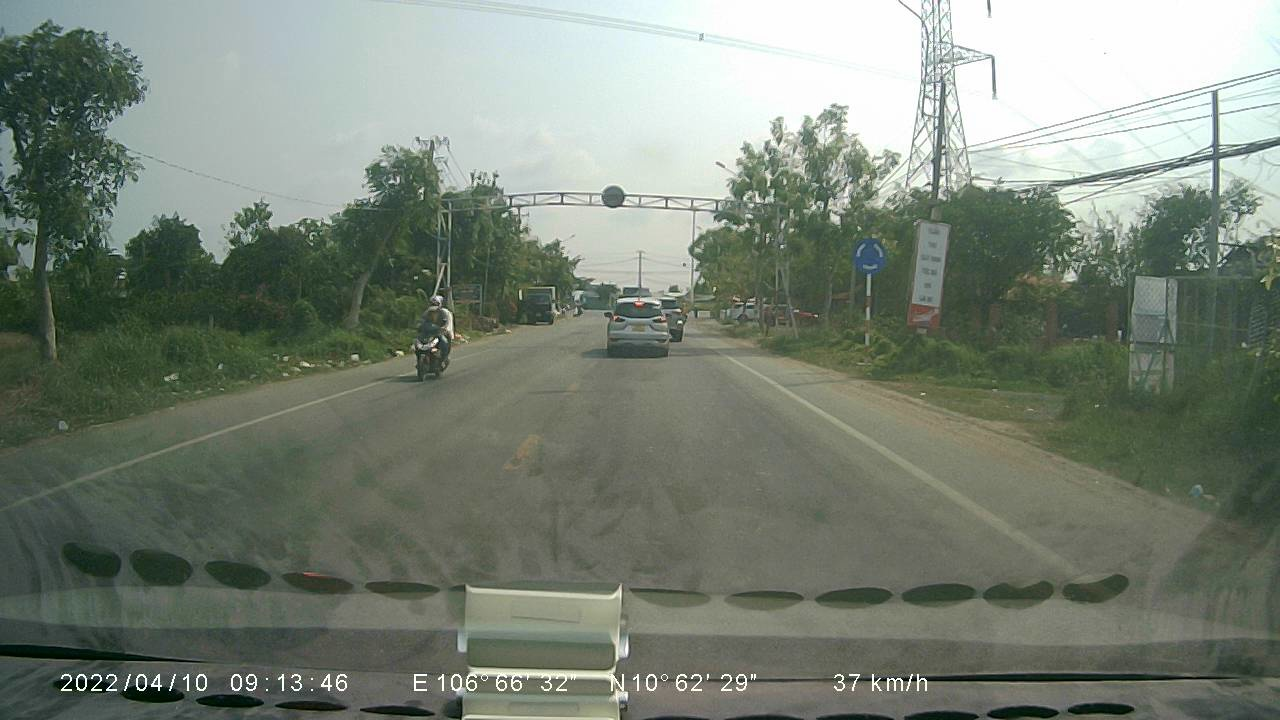Bien khac: (851, 234, 884, 274)
